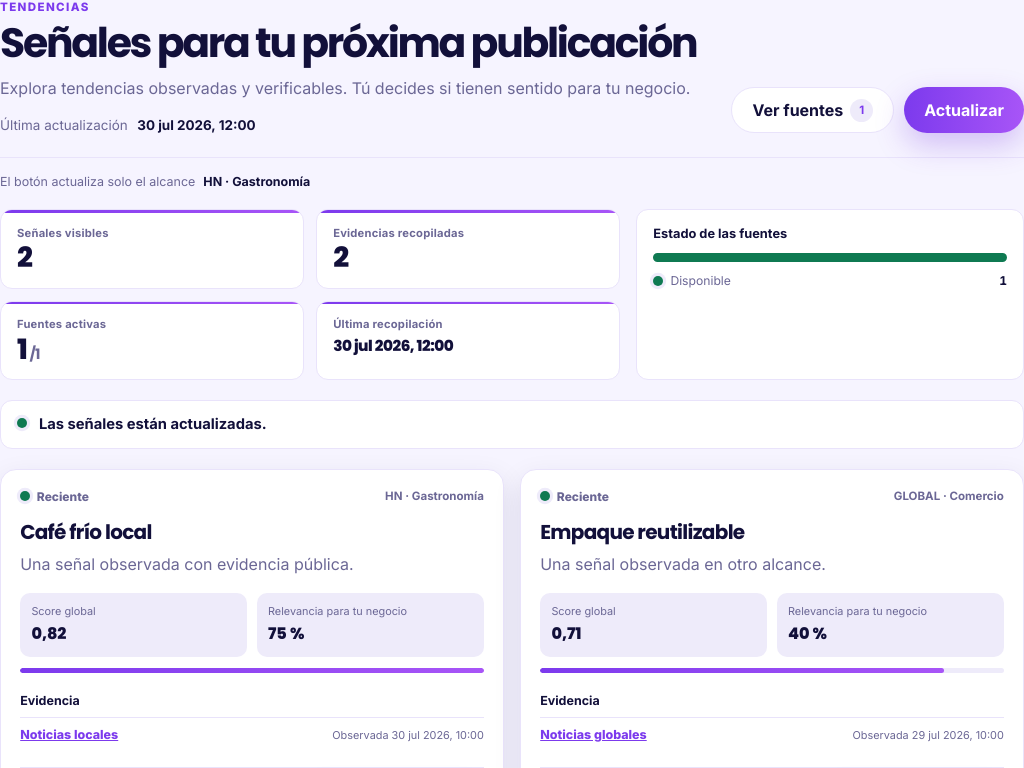
Trends Home › loads the safe sources modal and closes it from the keyboard
Click the button "Ver fuentes 1".
click(813, 110)  # box x1=732 y1=87 x2=894 y2=133
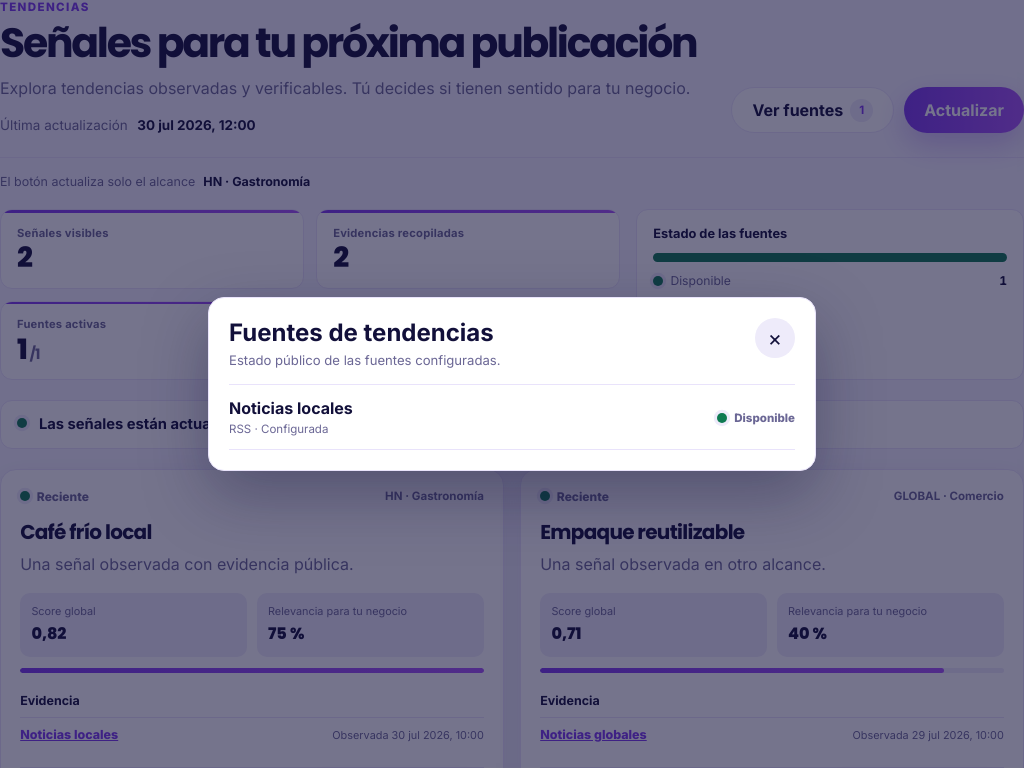
Check: the text "Noticias locales" is shown, box x1=229 y1=398 x2=353 y2=418
Check: the text "Disponible" is shown, box x1=717 y1=411 x2=795 y2=425
Press Escape in the dialog "Fuentes de tendencias", box x1=208 y1=297 x2=816 y2=471
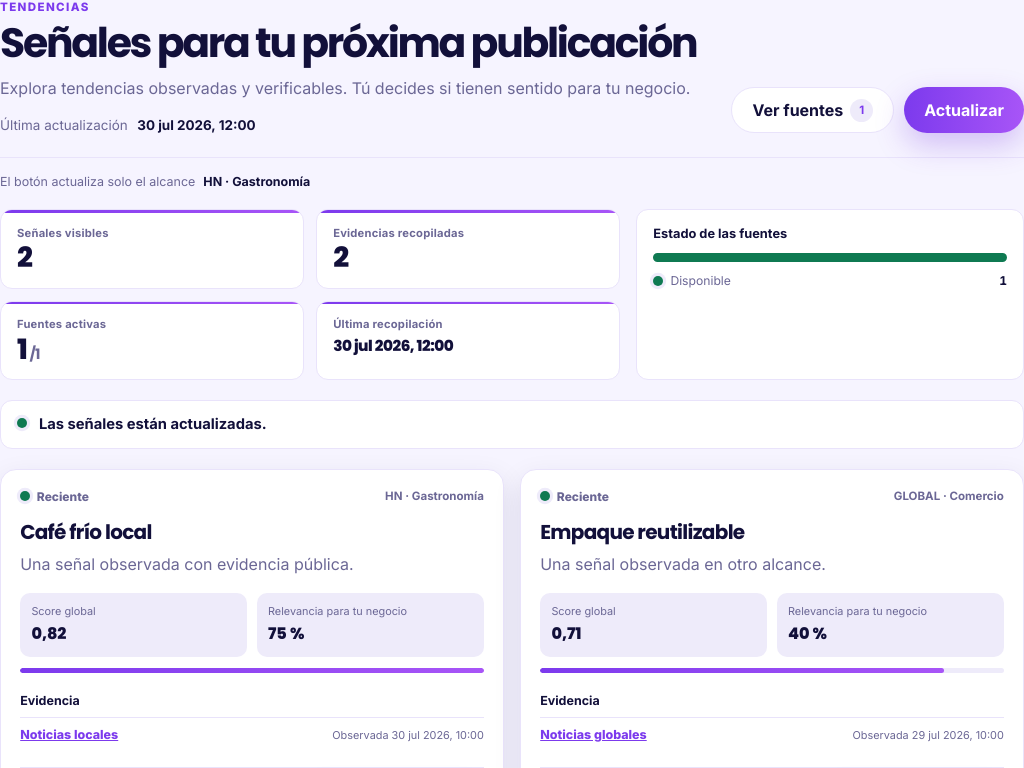
Check: the dialog is gone
